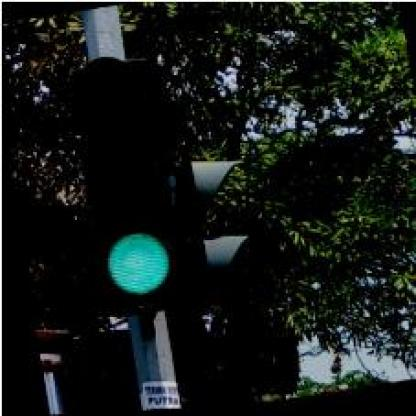green: (64, 55, 182, 319)
